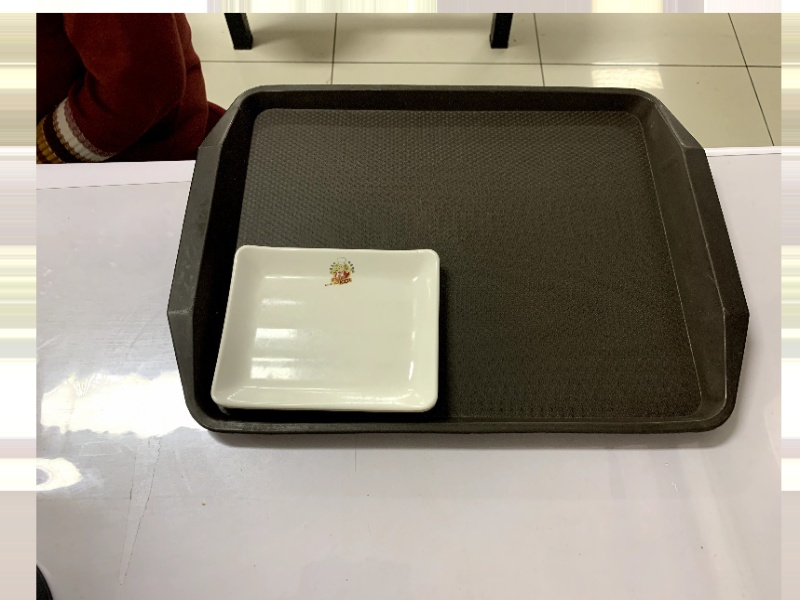dish4: (207, 238, 450, 420)
